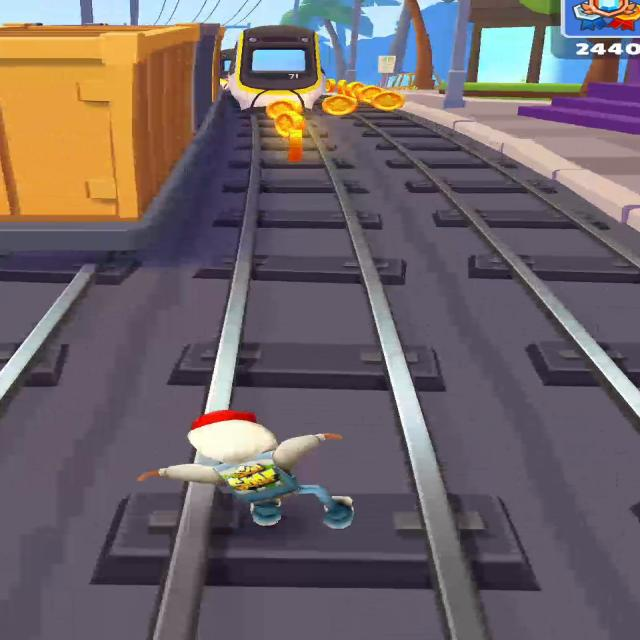train: (0, 24, 224, 253), (226, 25, 326, 113)
